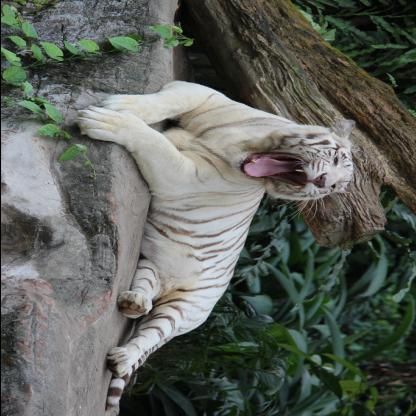tiger: (233, 115, 362, 205)
